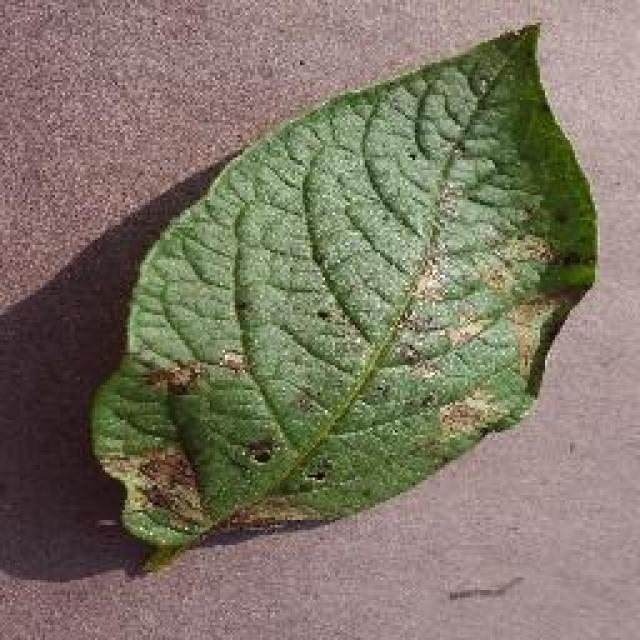late_blight: (85, 17, 603, 565)
